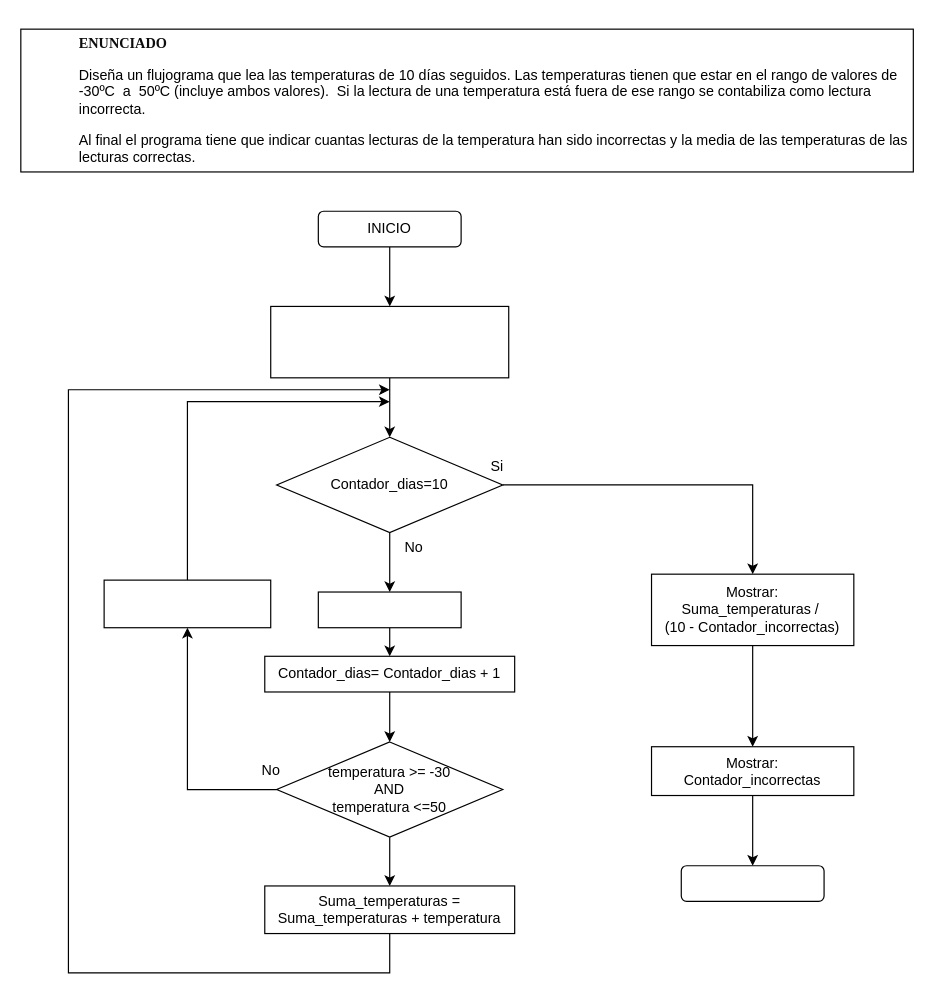
Some shapes in this 934 by 1003 pixel diagram are drawn without their labels. The centre of each missing label's shape, as x and y in pixels:
Contador_dias=0 Suma_temperaturas=0 Contador_incorrectas=0: point 389,341
Contador_incorrectas= Contador_incorrectas+1: point 187,603
FIN: point 752,883
leer temperatura: point 389,609
